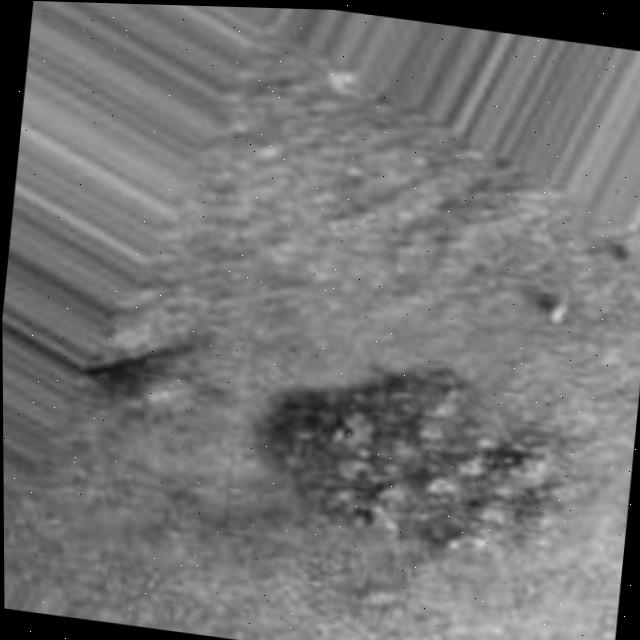Shingles: (279, 363, 548, 557)
